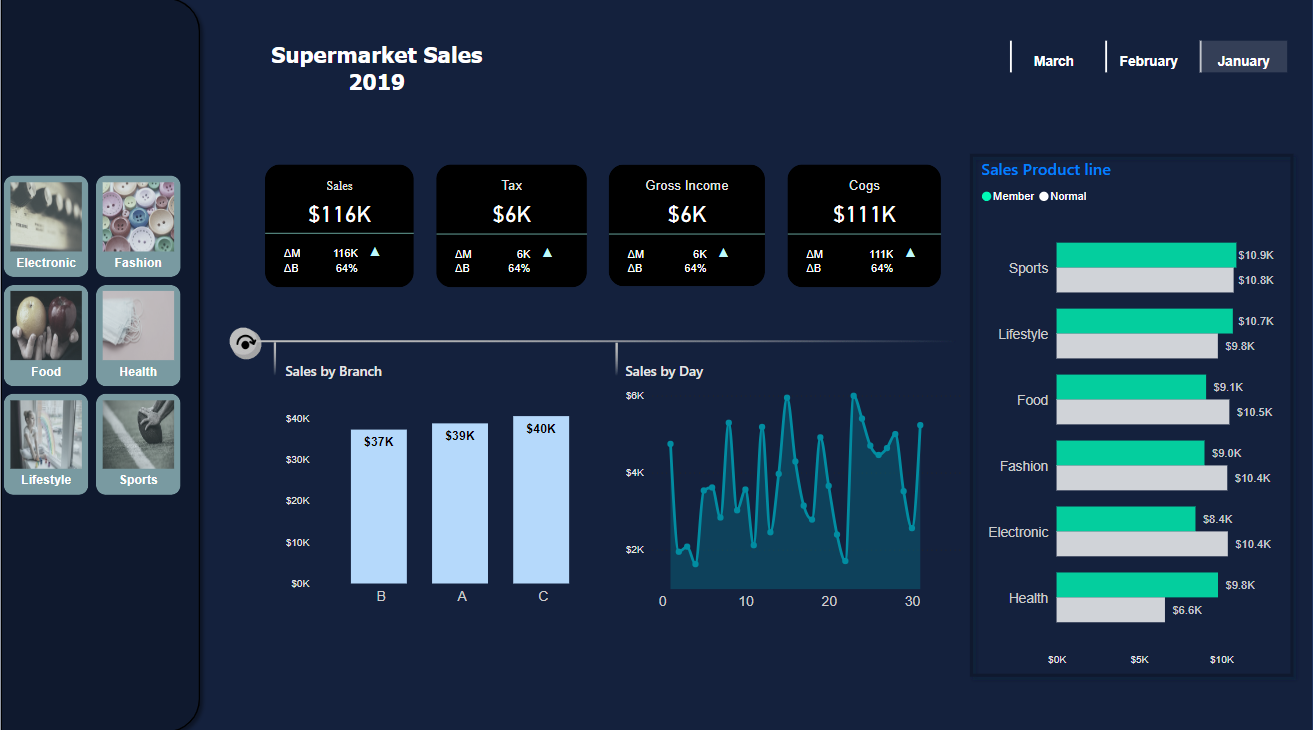

This screenshot's page, from the dashboard's own definition file:
{"tool":"powerbi","page":{"name":"Page 1","canvas":[1415,802],"ordinal":0},"visuals":[{"type":"advancedSlicerVisual","fields":{"Values":["DimDate.MonthName"]},"box":[1083.1,44.3,309.1,44.3],"z":1000},{"type":"columnChart","title":"Sales by Branch","fields":{"Category":["DimBranch.Branch"],"Y":["FactSales.Total Sales"]},"box":[303.8,394.2,354.8,270.2],"z":2000},{"type":"areaChart","title":"Sales by Day","fields":{"Category":["DimDate.Day"],"Y":["FactSales.Total Sales"]},"box":[669.3,394.2,368.3,270.2],"z":3000},{"type":"cardVisual","fields":{"Data":["FactSales.Total Sales"]},"box":[282.4,176.9,170.2,142.2],"z":4000},{"type":"cardVisual","fields":{"Data":["FactSales.Total Tax"]},"box":[466.4,176.9,172.6,142.2],"z":5000},{"type":"cardVisual","fields":{"Data":["FactSales.Total Gross Income"]},"box":[652.1,177.2,178.3,141.6],"z":6000},{"type":"cardVisual","fields":{"Data":["FactSales.Total cogs"]},"box":[844.1,176.9,175.1,142.2],"z":7000},{"type":"clusteredBarChart","title":"Sales Product line","fields":{"Category":["DimProductLine.Product line"],"Y":["FactSales.Total Sales"],"Series":["DimCustomerType.Customer type"]},"box":[1052.2,174.7,337.3,555],"z":8000},{"type":"actionButton","box":[246.5,352.3,783.8,58.8],"z":9000},{"type":"textbox","box":[283.6,44.4,247.3,94.1],"z":10000},{"type":"actionButton","box":[248,353,37,39],"z":11000},{"type":"advancedSlicerVisual","fields":{"Values":["DimProductLine.Product line"]},"box":[1.3,169.3,201.6,393.8],"z":15000}]}

Visuals, with their boxes in screenshot pixels (x1, y1, x2, y2), scaled from the page's 1415x802 canvas onto the 1313x730 screenshot:
advancedSlicerVisual - DimDate.MonthName: <region>1005, 40, 1292, 81</region>
"Sales by Branch" columnChart: <region>282, 359, 611, 605</region>
"Sales by Day" areaChart: <region>621, 359, 963, 605</region>
cardVisual - FactSales.Total Sales: <region>262, 161, 420, 290</region>
cardVisual - FactSales.Total Tax: <region>433, 161, 593, 290</region>
cardVisual - FactSales.Total Gross Income: <region>605, 161, 771, 290</region>
cardVisual - FactSales.Total cogs: <region>783, 161, 946, 290</region>
"Sales Product line" clusteredBarChart: <region>976, 159, 1289, 664</region>
actionButton: <region>229, 321, 956, 374</region>
textbox: <region>263, 40, 493, 126</region>
actionButton: <region>230, 321, 264, 357</region>
advancedSlicerVisual - DimProductLine.Product line: <region>1, 154, 188, 513</region>
